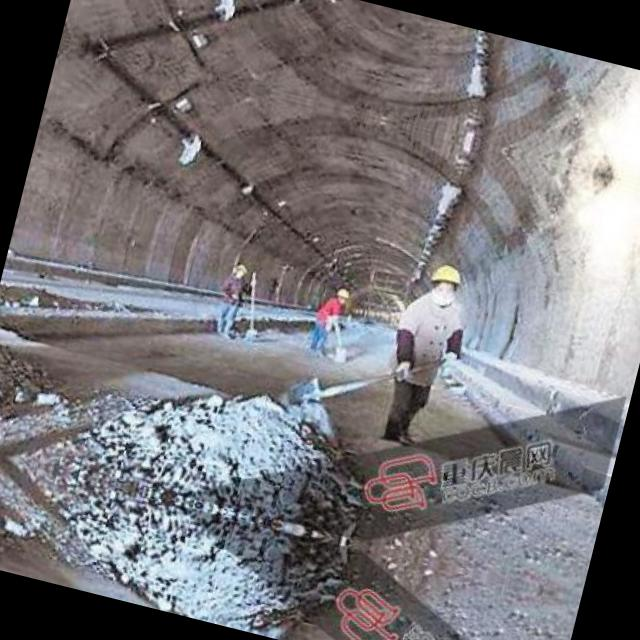helmet: (424, 257, 464, 305), (328, 282, 352, 308)
